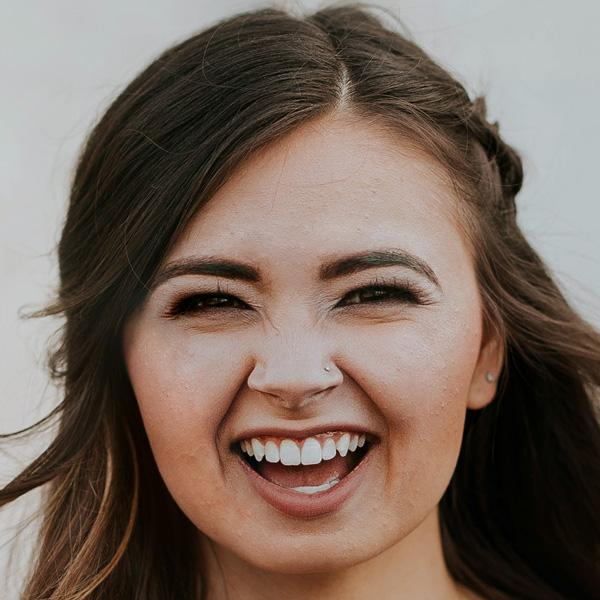Eyes: (318, 266, 435, 332), (157, 276, 273, 337)
